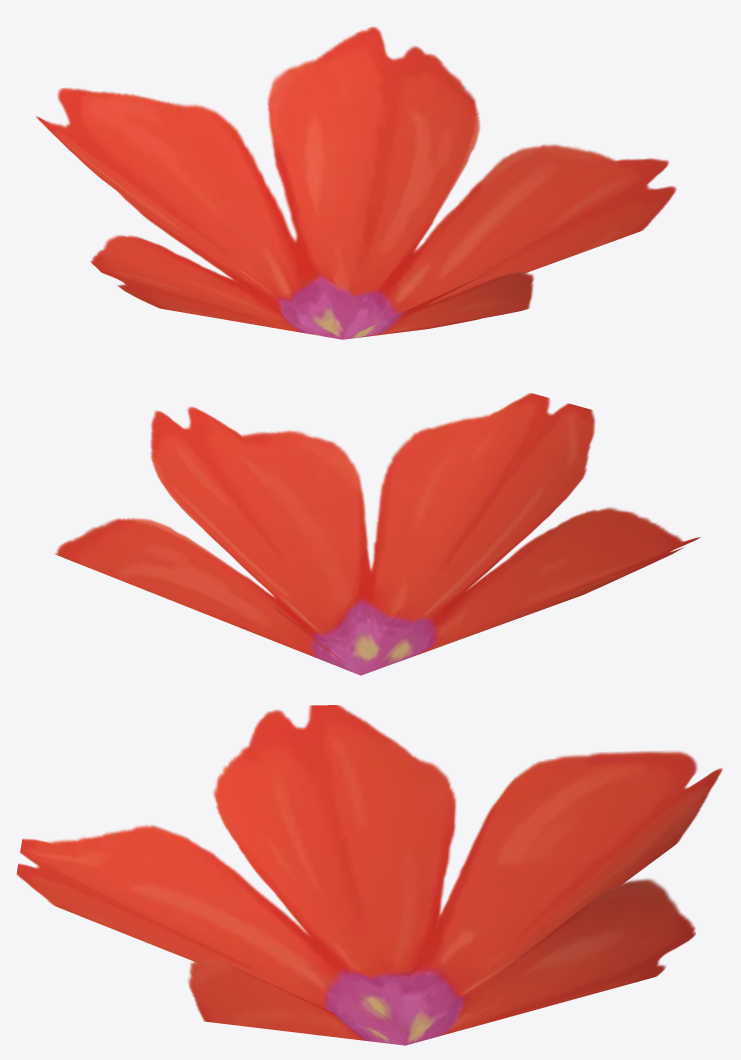
The model's file is prop_snm_flower_petal_2.glb.
3 renders of one model, top to bottom at view 1: azimuth 30°, elevation 25°; view 2: azimuth 150°, elevation 25°; view 3: azimuth 270°, elevation 25°, orthographic. The views are drawn at different scales.
Parts seen in each view (by area): view 1: Petal_3; view 2: Petal_3; view 3: Petal_3.
Boxes of the visible parts, x1,y1,x2,y2 form: Petal_3: (36, 26, 676, 339); Petal_3: (55, 393, 700, 675); Petal_3: (16, 705, 722, 1045).
Bounding box in the file's own units: 0.6195 × 0.1895 × 0.6064.
Materials: 1 (1 with a texture image).
